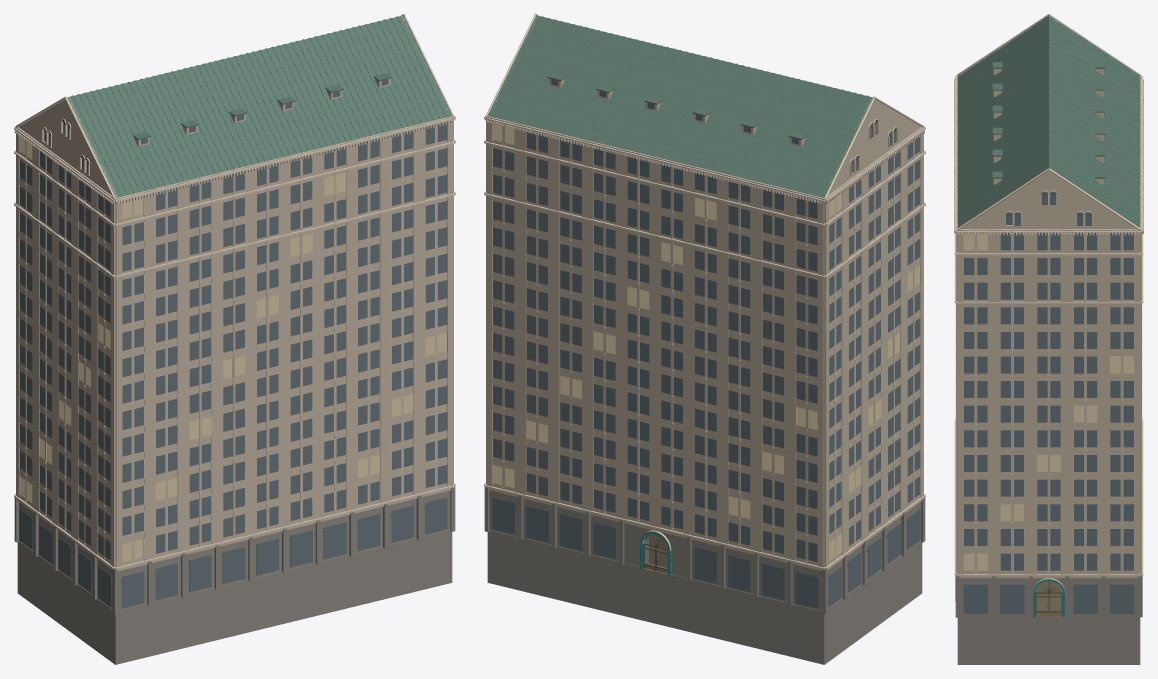
The model's file is monroe_building.glb.
3 views of the same model, side by side, from view 1: azimuth 30°, elevation 25°; view 2: azimuth 150°, elevation 25°; view 3: azimuth 270°, elevation 25° (orthographic). The views are drawn at different scales.
Visible parts, largest first — view 1: Warm pale terracotta wall piers, Individual office glazing, Green glazed Spanish roof tiles, Granite street base, Carved pale terracotta surrounds, Night occupied office glazing; view 2: Warm pale terracotta wall piers, Individual office glazing, Green glazed Spanish roof tiles, Granite street base, Carved pale terracotta surrounds, Night occupied office glazing; view 3: Warm pale terracotta wall piers, Green glazed Spanish roof tiles, Individual office glazing, Granite street base, Carved pale terracotta surrounds, Night occupied office glazing, Warm tiled entry vestibule, Dark cast iron entry and sash, Clear recessed entrance glazing.
Part boxes in pixels (x1,y1,x2,y2): Warm pale terracotta wall piers: (16, 16, 453, 571); Individual office glazing: (19, 79, 447, 608); Green glazed Spanish roof tiles: (67, 15, 452, 197); Granite street base: (14, 487, 455, 664); Carved pale terracotta surrounds: (14, 14, 455, 569); Night occupied office glazing: (20, 137, 446, 561); Warm pale terracotta wall piers: (486, 16, 923, 571); Individual office glazing: (492, 79, 920, 608); Green glazed Spanish roof tiles: (487, 15, 872, 197); Granite street base: (484, 487, 925, 664); Carved pale terracotta surrounds: (484, 14, 925, 569); Night occupied office glazing: (493, 122, 919, 560); Warm pale terracotta wall piers: (956, 15, 1141, 578); Green glazed Spanish roof tiles: (957, 15, 1140, 227); Individual office glazing: (963, 69, 1134, 613); Granite street base: (955, 574, 1142, 664); Carved pale terracotta surrounds: (954, 14, 1143, 593); Night occupied office glazing: (964, 233, 1133, 570); Warm tiled entry vestibule: (1035, 581, 1062, 616); Dark cast iron entry and sash: (963, 194, 1134, 615); Clear recessed entrance glazing: (1036, 582, 1061, 610).
Size of the model in its own units: 55.42 by 82.12 by 28.42.
